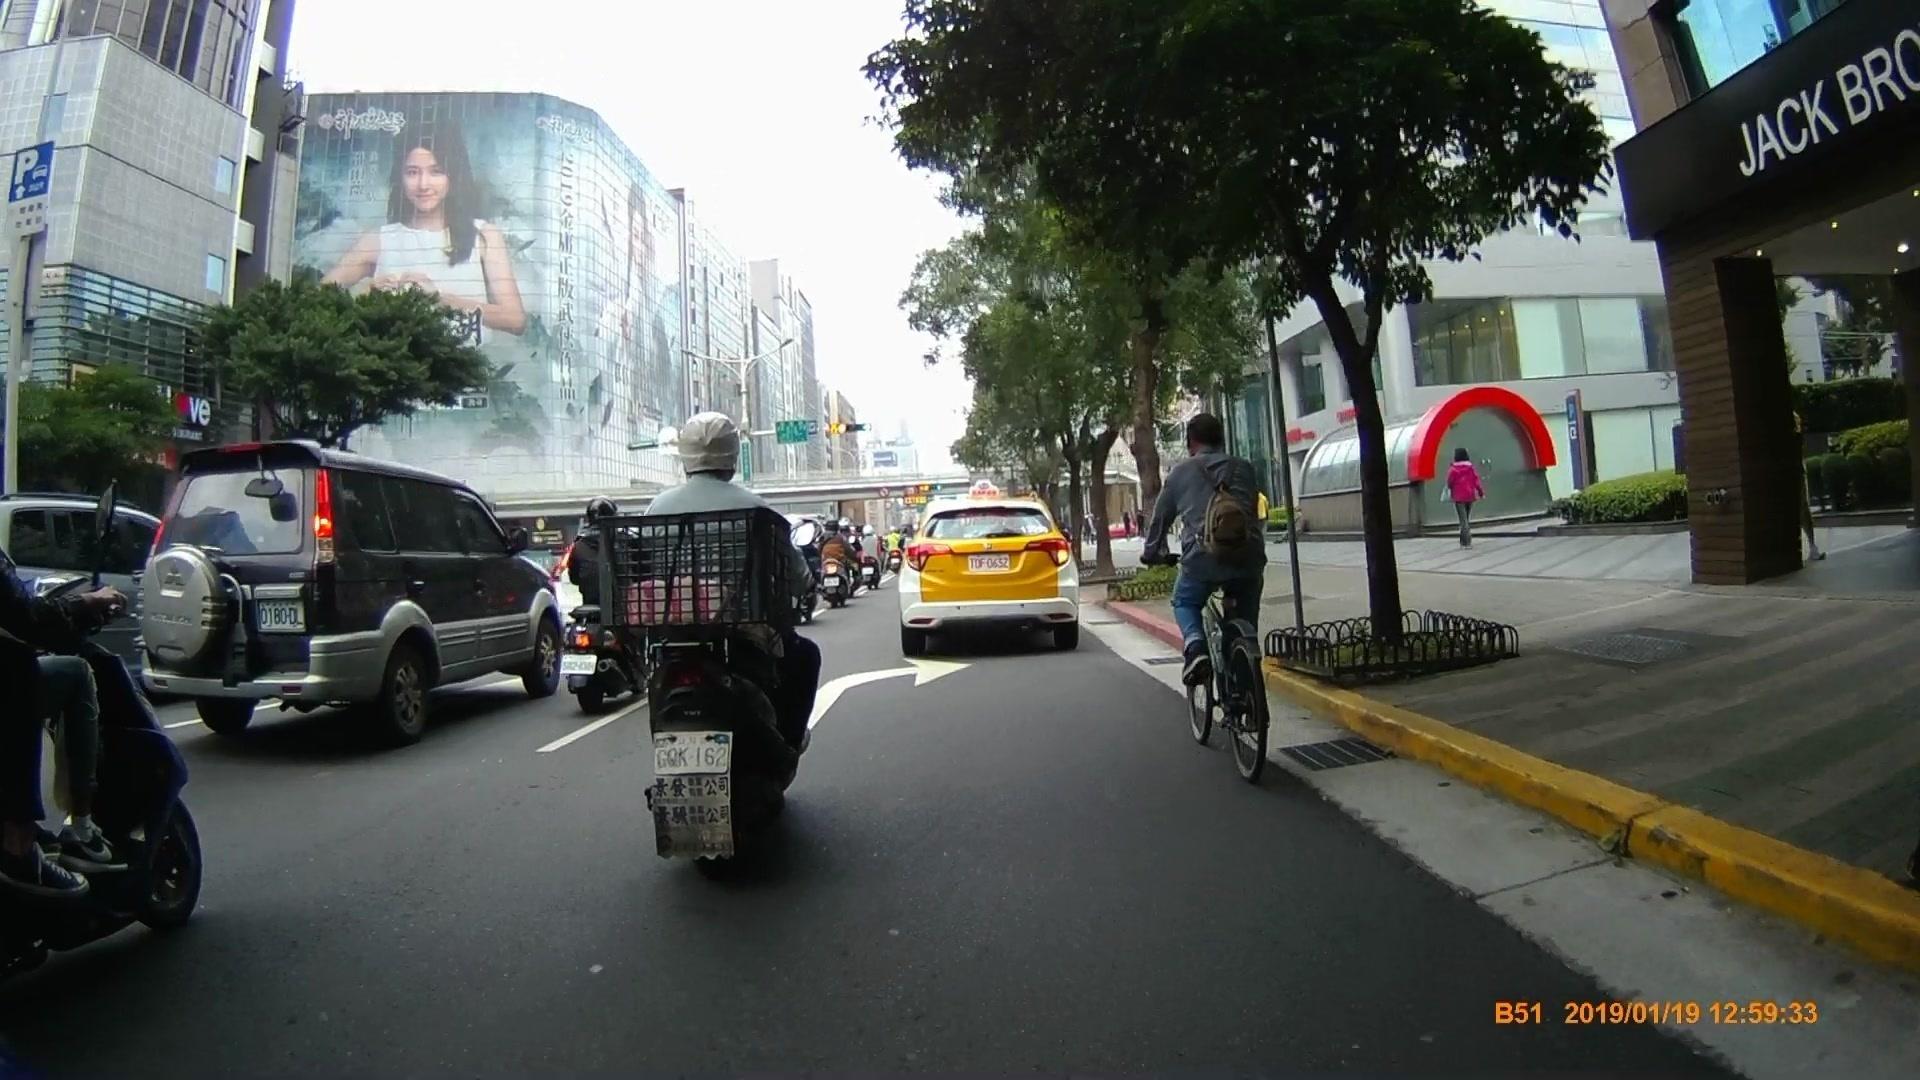License_plate: (649, 733, 733, 773), (251, 601, 309, 634), (961, 548, 1015, 579)
